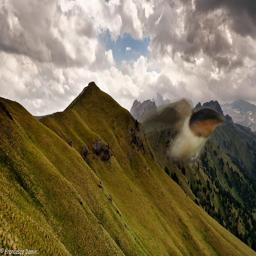Swallow: (137, 97, 226, 168)
